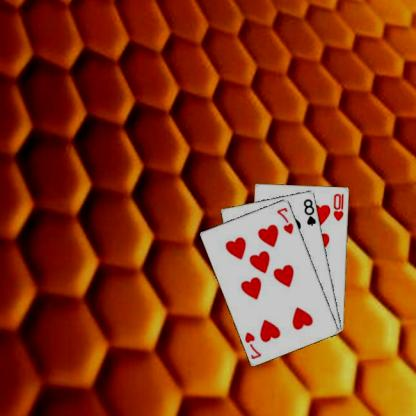10H: (333, 191, 347, 222)
7H: (276, 204, 297, 236), (244, 329, 265, 360)
8S: (303, 196, 319, 226)
